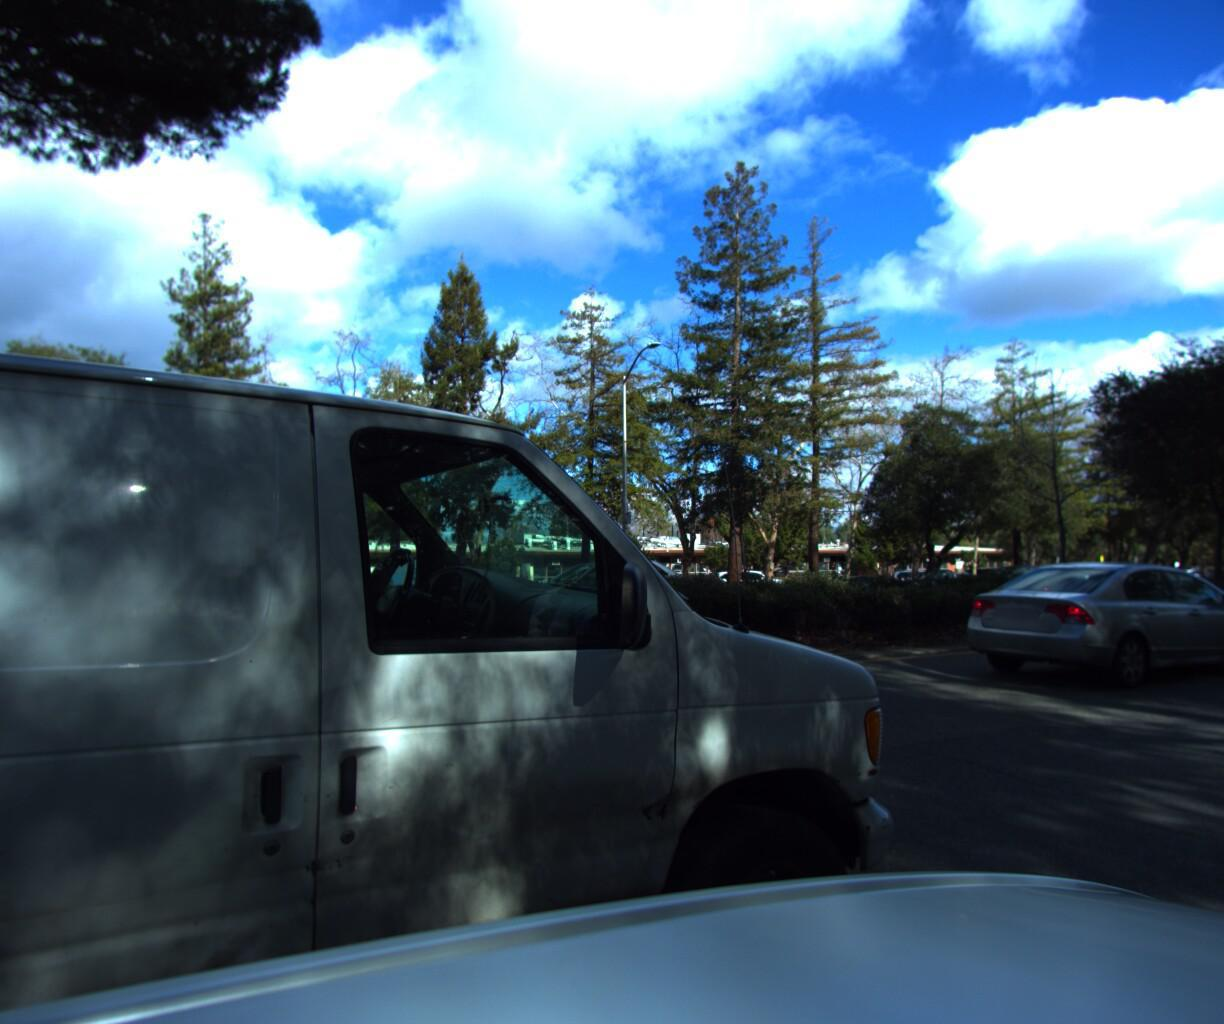car: (0, 0, 968, 1024), (941, 552, 1224, 698), (501, 550, 703, 631), (1044, 562, 1133, 598)
